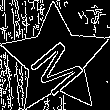M_NE: (23, 26, 89, 94)
